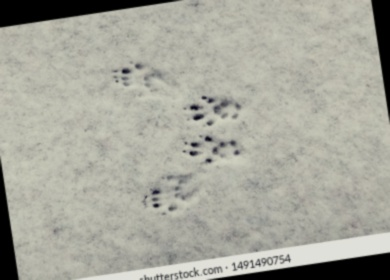ecureuil: (106, 48, 187, 108), (130, 162, 206, 225), (173, 124, 252, 172), (176, 85, 252, 133)
